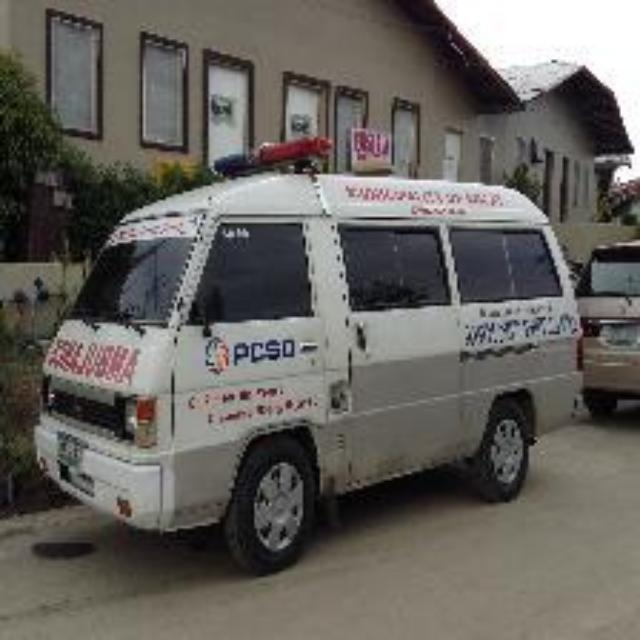emergency: (34, 135, 586, 532)
